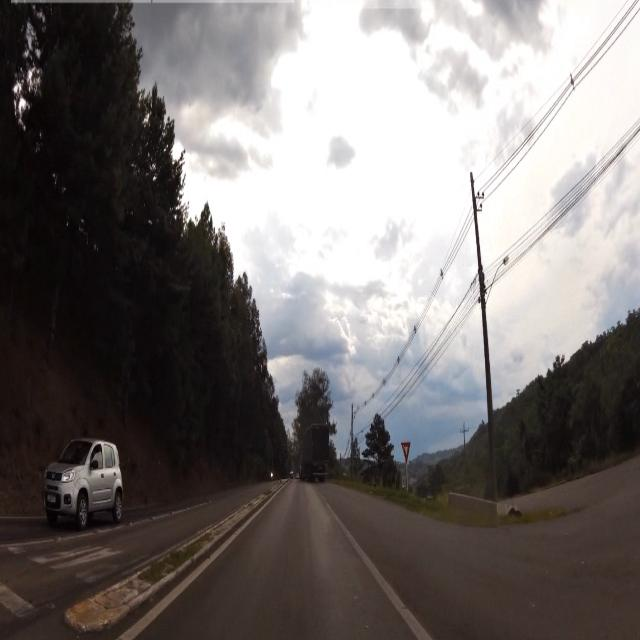R-2: (400, 437, 415, 463)
